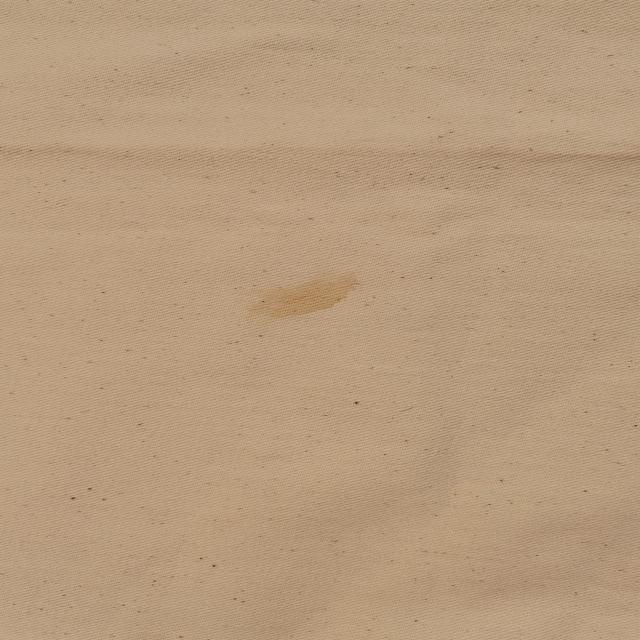taaaches: (222, 262, 382, 331)
